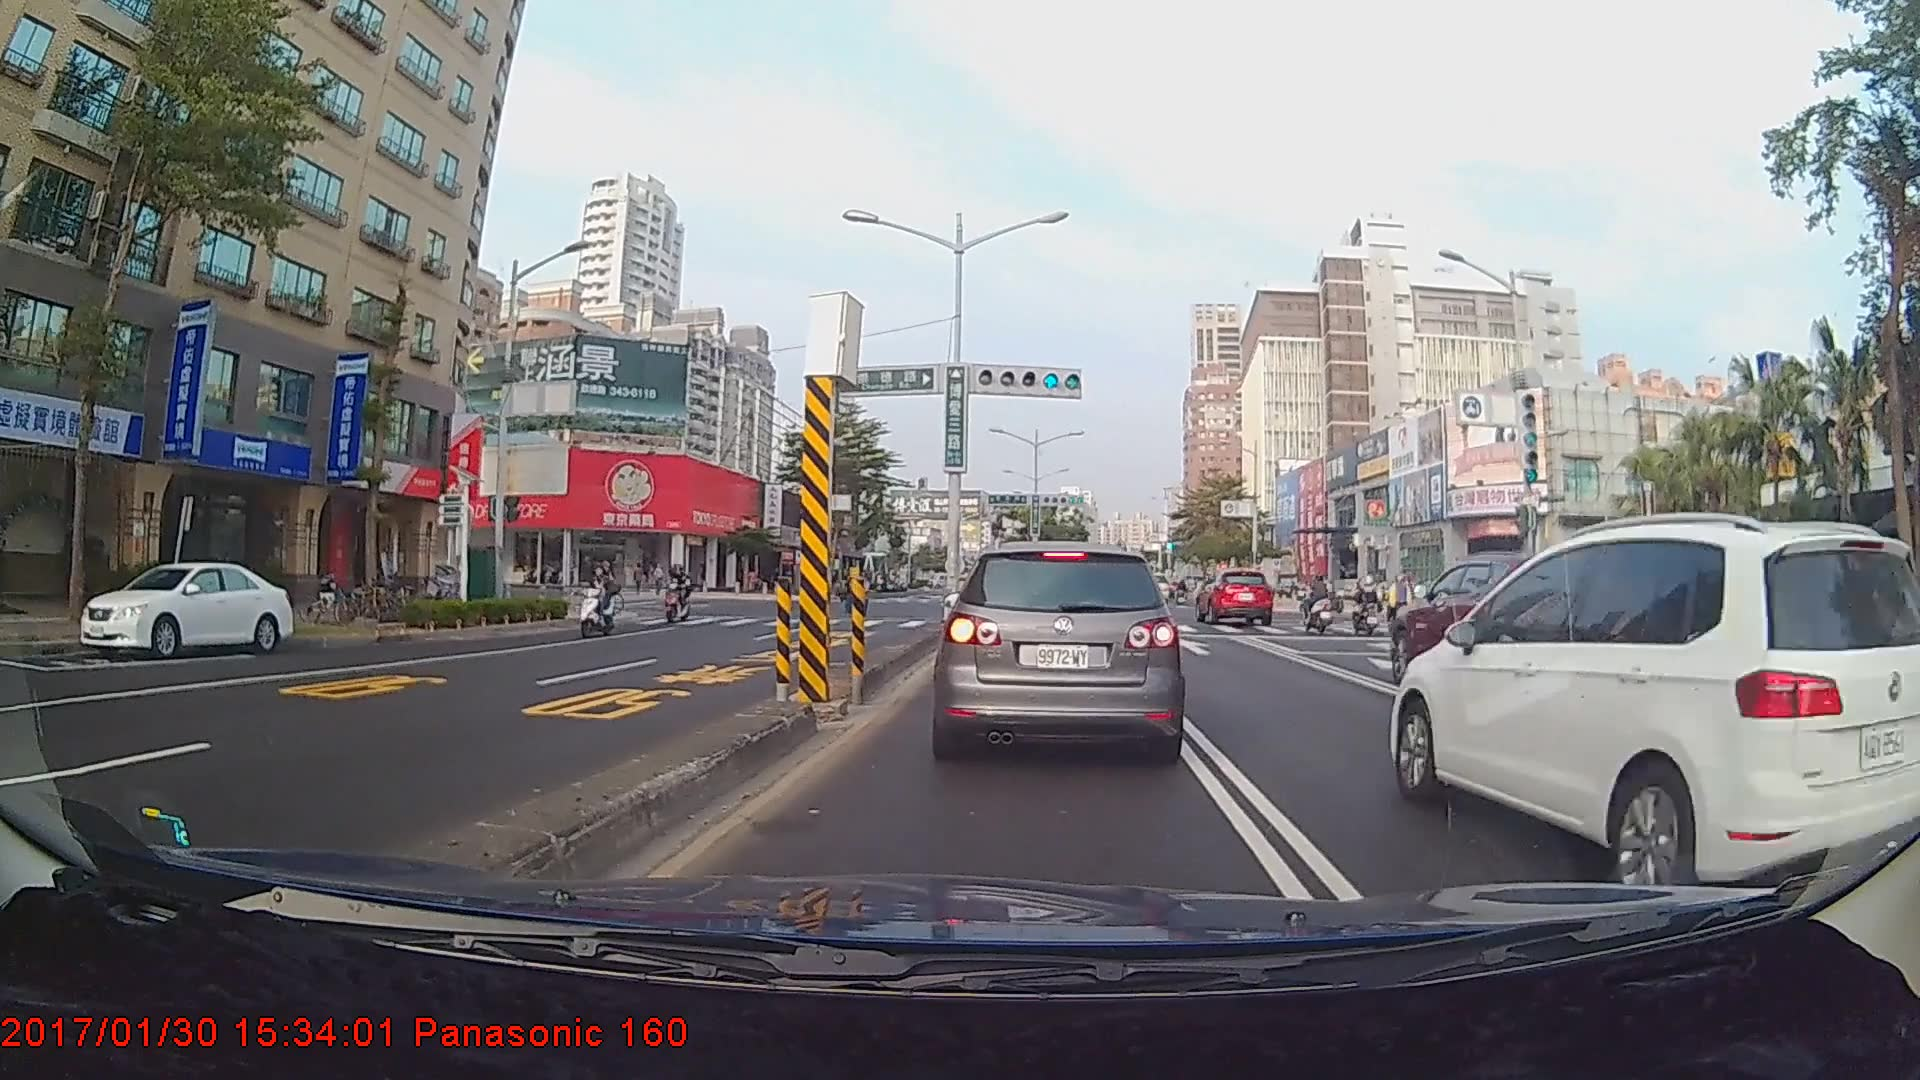rider: (573, 563, 625, 644), (1343, 574, 1392, 636), (1296, 571, 1345, 632), (666, 568, 699, 628)
vehicle: (1388, 509, 1908, 884), (936, 537, 1186, 761), (1396, 551, 1650, 700), (79, 561, 292, 659), (1196, 567, 1275, 625), (1133, 568, 1170, 605)
